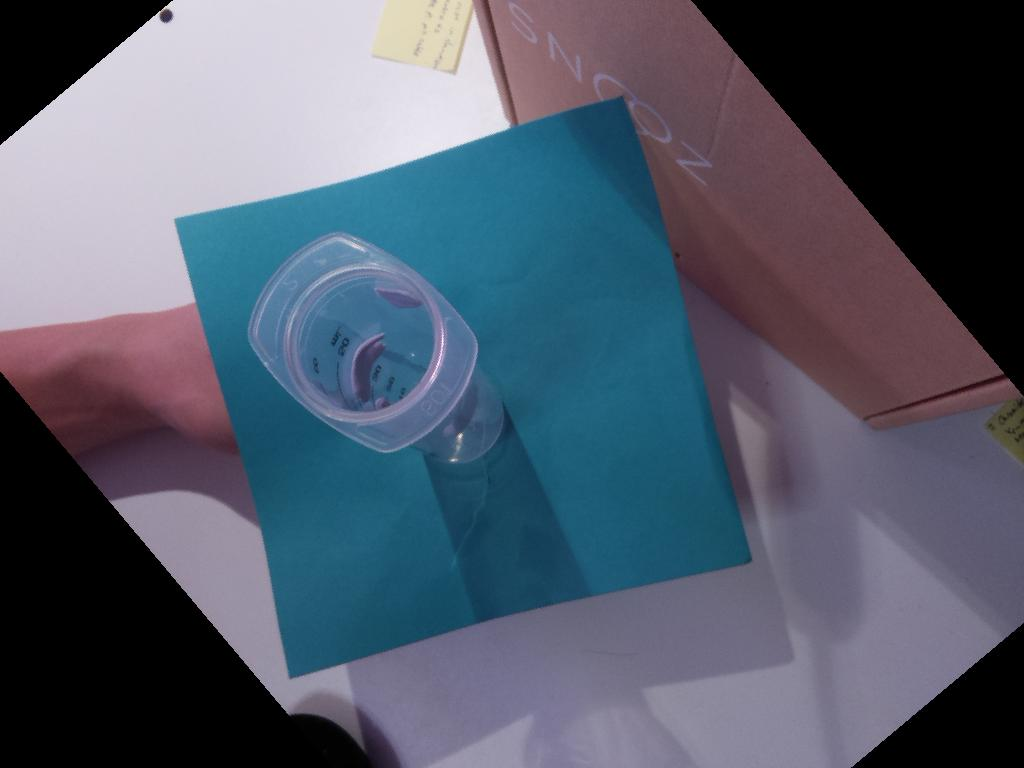dirty: (248, 232, 478, 454)
